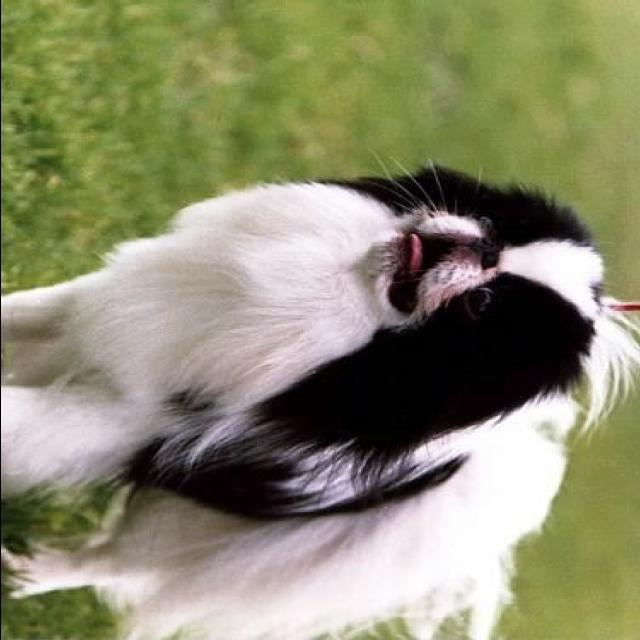husky: (2, 161, 638, 639)
